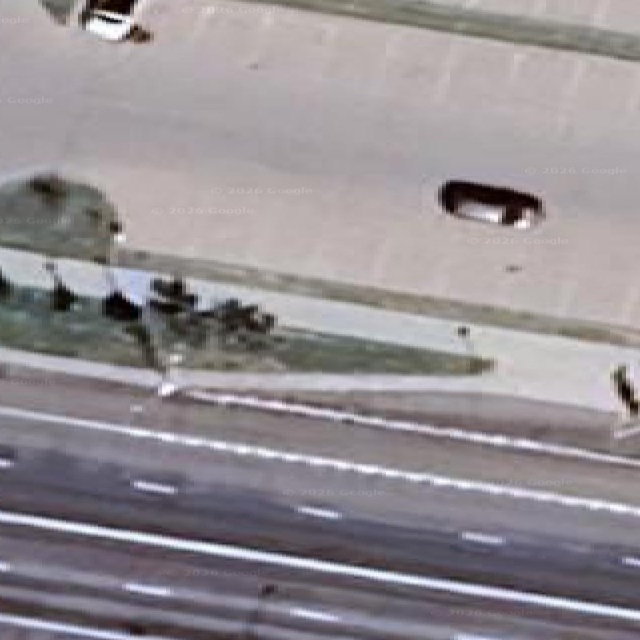car: (0, 167, 123, 263), (437, 180, 544, 227), (79, 0, 140, 40), (81, 9, 131, 39), (612, 364, 639, 416), (108, 220, 124, 243), (0, 444, 15, 468)
